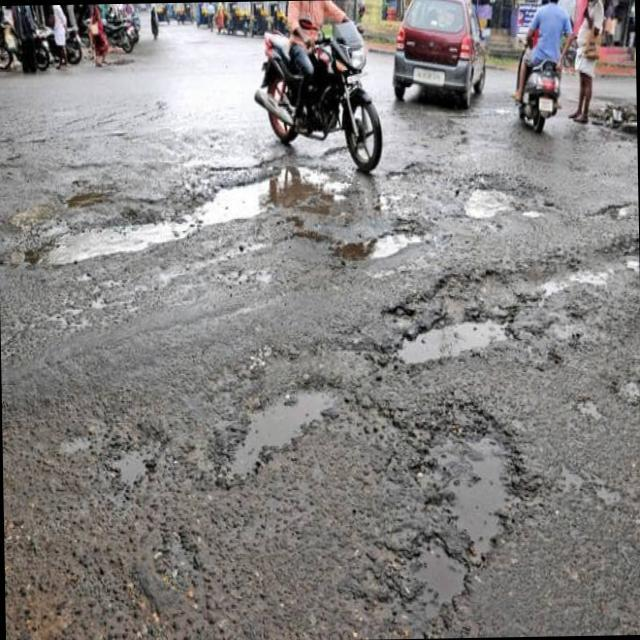Pothole: (406, 414, 529, 616), (397, 291, 512, 375), (218, 160, 338, 222), (45, 213, 175, 265), (239, 388, 319, 458), (556, 234, 640, 295), (364, 217, 418, 266), (465, 176, 522, 222)
